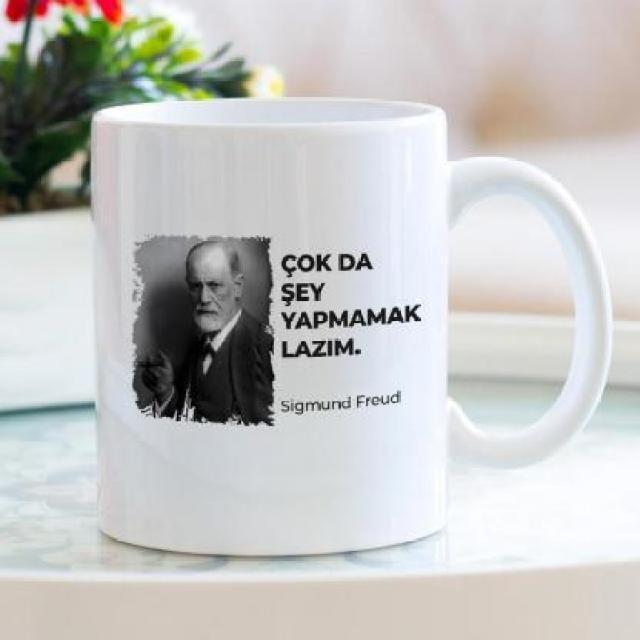taza: (89, 98, 612, 558)
